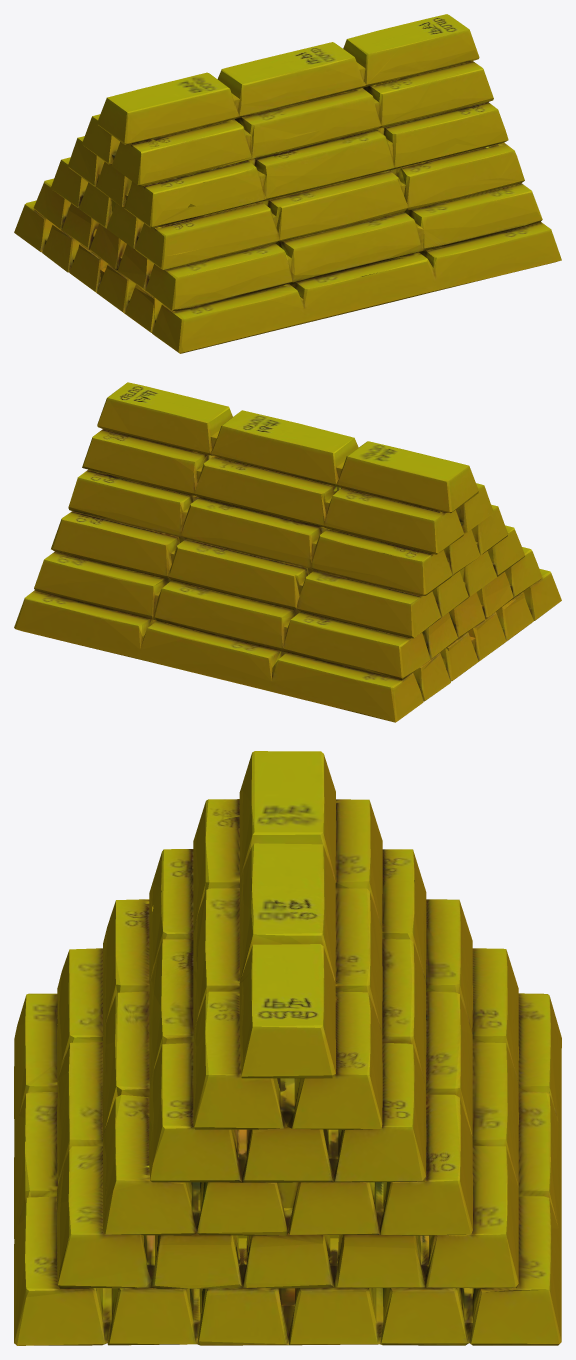
The model's file is gol 1.fbx.
3 renders of one model, top to bottom at view 1: azimuth 30°, elevation 25°; view 2: azimuth 150°, elevation 25°; view 3: azimuth 270°, elevation 25°, orthographic. The views are drawn at different scales.
Visible parts, largest first — view 1: tripo_node_11ba7829; view 2: tripo_node_11ba7829; view 3: tripo_node_11ba7829.
Part boxes in pixels (bbox=[...]): tripo_node_11ba7829: bbox=[14, 14, 561, 353]; tripo_node_11ba7829: bbox=[14, 382, 561, 722]; tripo_node_11ba7829: bbox=[14, 751, 561, 1345].
Size of the model in its own units: 1 by 0.4603 by 0.7509.
Materials: 1 (1 with a texture image).
